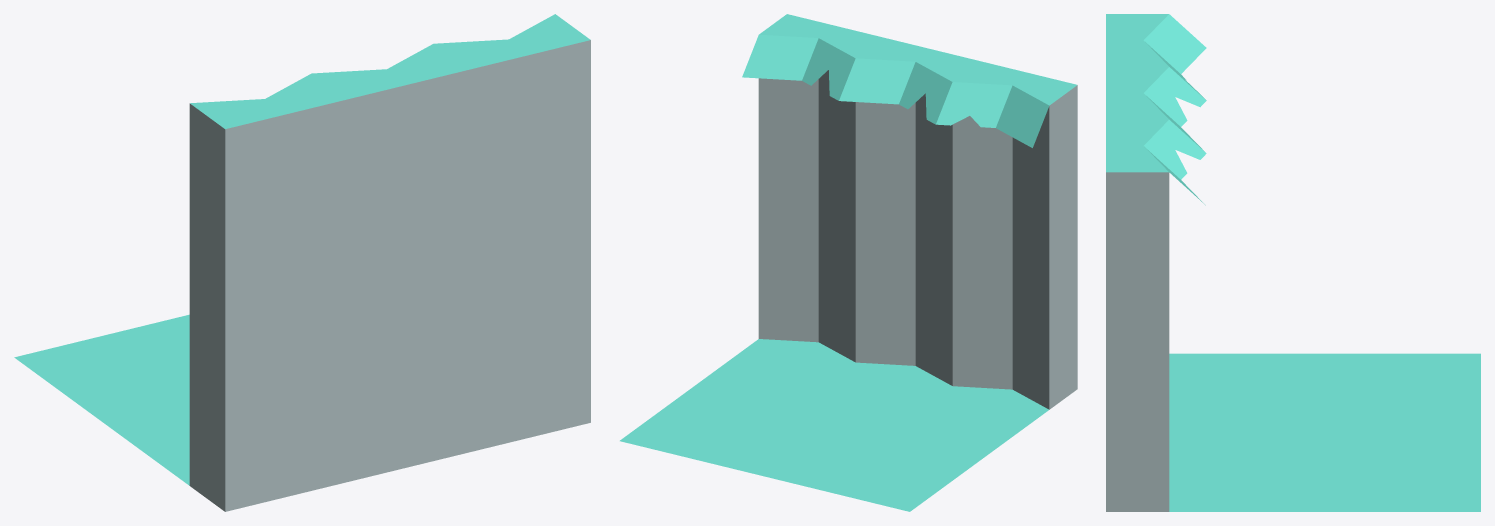
The model's file is cliff_top_stone_grass.glb.
3 renders of one model, left to right at view 1: azimuth 30°, elevation 25°; view 2: azimuth 150°, elevation 25°; view 3: azimuth 270°, elevation 25°, orthographic. The views are drawn at different scales.
Parts seen in each view (by area): view 1: cliff_top_stone_grass; view 2: cliff_top_stone_grass; view 3: cliff_top_stone_grass.
Boxes of the visible parts, x1,y1,x2,y2 form: cliff_top_stone_grass: [14, 14, 590, 511]; cliff_top_stone_grass: [620, 14, 1077, 511]; cliff_top_stone_grass: [1106, 14, 1480, 511].
Size of the model in its own units: 1 by 1 by 1.
